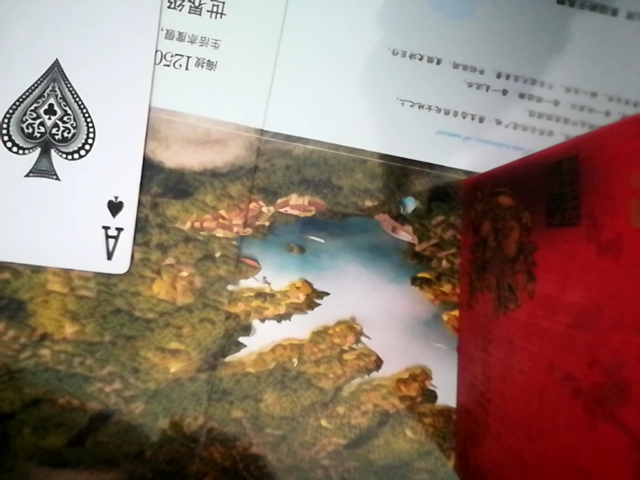ht a: (0, 4, 162, 282)
